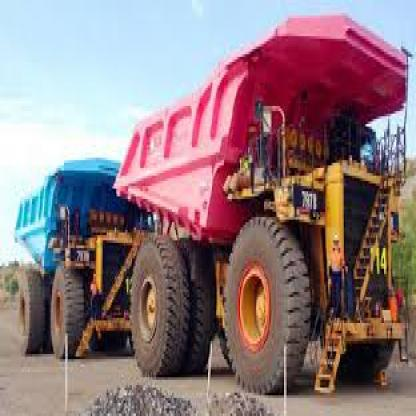dump_truck: (115, 2, 414, 398), (8, 150, 153, 354)
